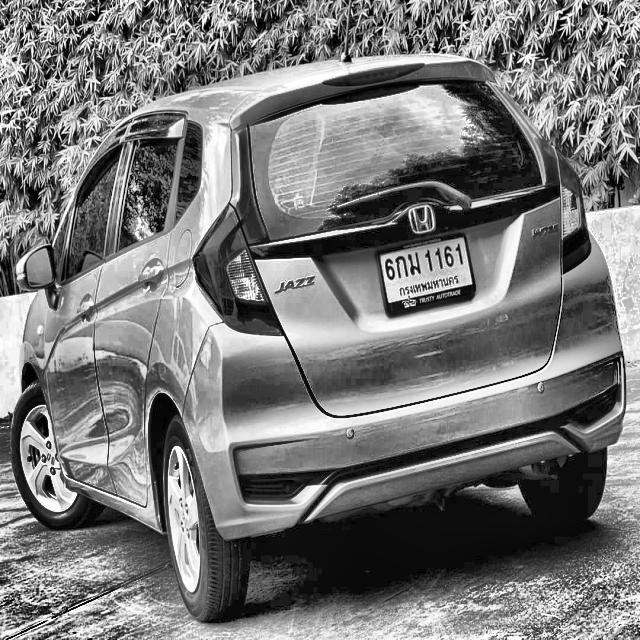license-plate: (376, 231, 478, 319)
